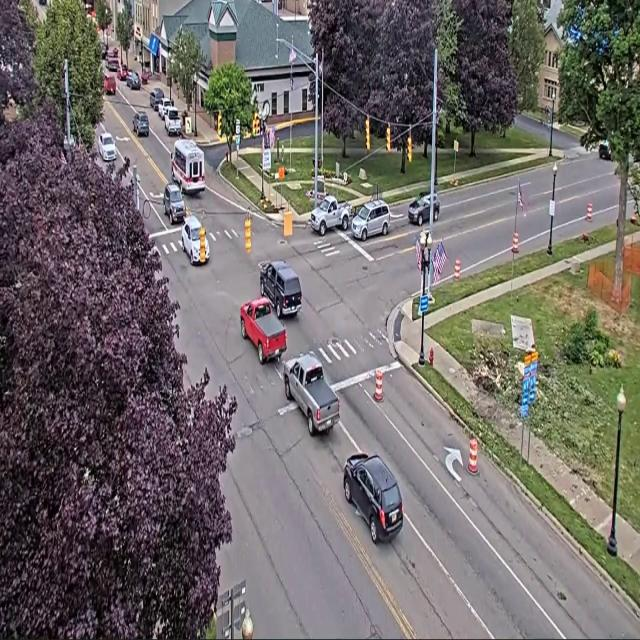car: (343, 453, 403, 543), (260, 261, 301, 317), (352, 200, 390, 241), (181, 216, 209, 264), (163, 184, 184, 223), (408, 192, 430, 225), (98, 132, 116, 161), (164, 107, 181, 135), (132, 112, 150, 137), (156, 97, 173, 119), (150, 88, 164, 111), (126, 71, 142, 90), (104, 74, 116, 95), (599, 141, 611, 159), (140, 68, 152, 85), (107, 57, 119, 72), (118, 64, 128, 80), (101, 44, 109, 60), (111, 47, 118, 57), (39, 0, 46, 6)
traffic signal: (244, 214, 252, 253), (200, 227, 205, 263), (252, 112, 259, 136), (407, 134, 412, 162), (366, 117, 370, 151), (217, 112, 221, 137), (386, 126, 390, 151)
truck: (283, 353, 339, 436), (241, 297, 286, 364), (310, 195, 351, 236)
